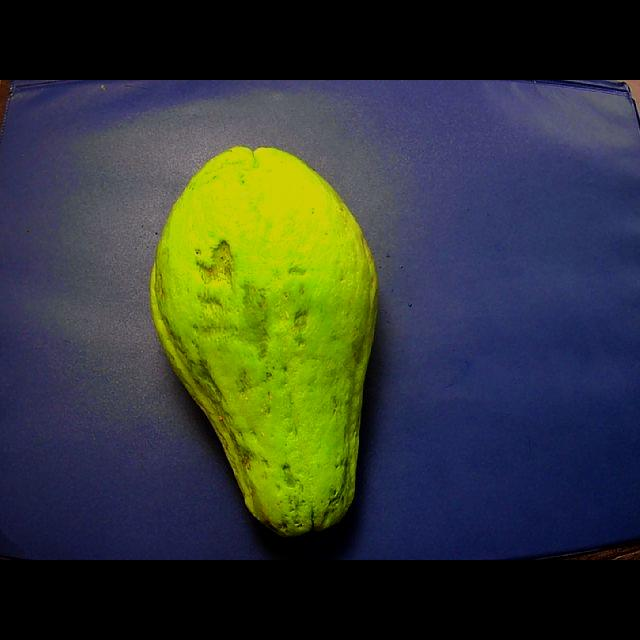chayote: (152, 148, 376, 536)
